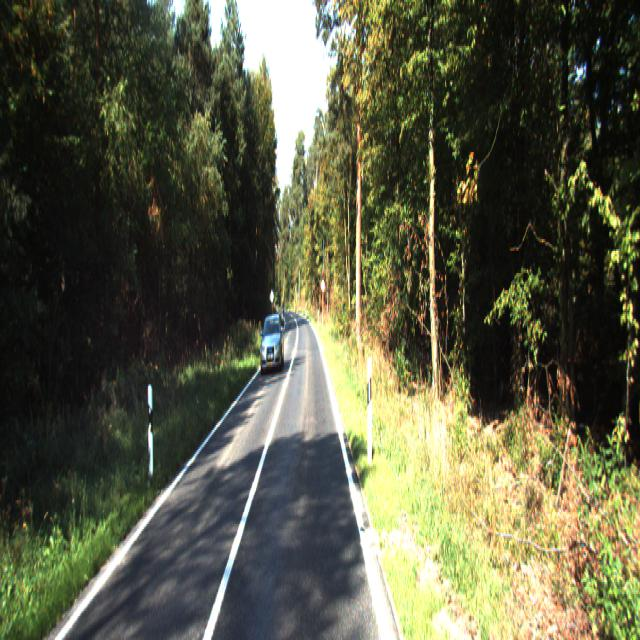Car: (259, 312, 286, 374)
